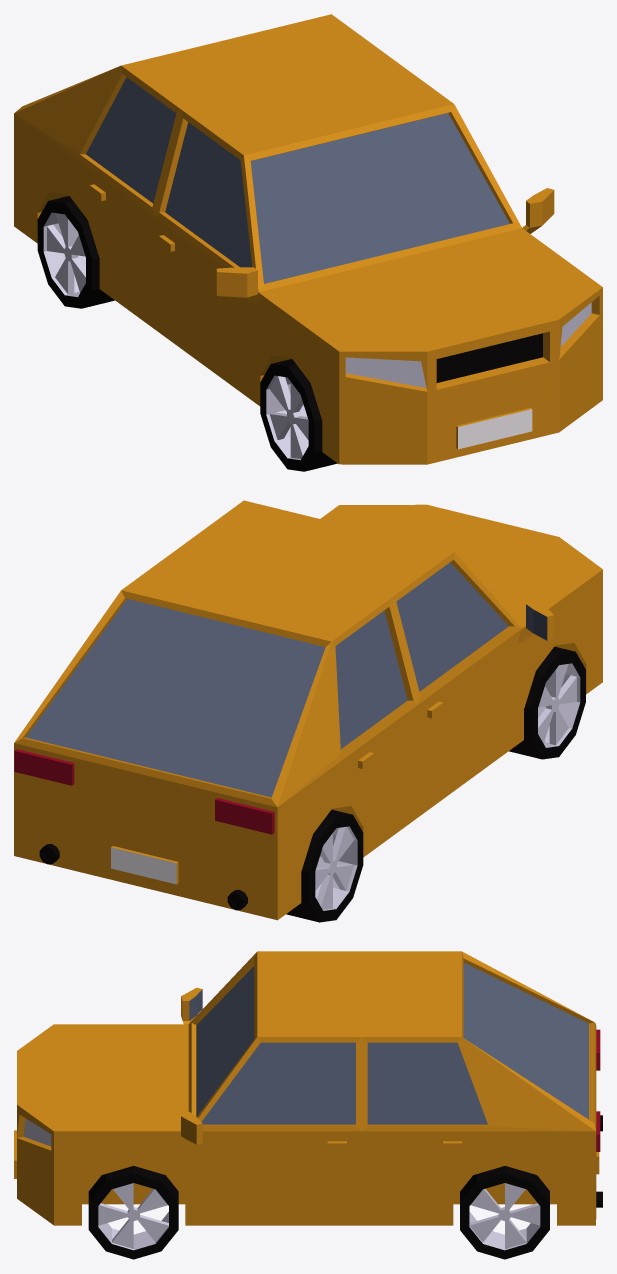
The model's file is yellowcar.glb.
3 views of the same model, one above another, from view 1: azimuth 30°, elevation 25°; view 2: azimuth 150°, elevation 25°; view 3: azimuth 270°, elevation 25° (orthographic). The views are drawn at different scales.
Parts seen in each view (by area): view 1: Hatchback, Hatchback wheel front right, Hatchback wheel rear right; view 2: Hatchback, Hatchback wheel rear right, Hatchback wheel front right; view 3: Hatchback, Hatchback wheel front left, Hatchback wheel rear left.
Part boxes in pixels (x1,y1,x2,y2): Hatchback: (14, 14, 602, 464); Hatchback wheel front right: (260, 359, 337, 471); Hatchback wheel rear right: (37, 196, 114, 308); Hatchback: (14, 500, 602, 920); Hatchback wheel rear right: (286, 809, 363, 922); Hatchback wheel front right: (509, 646, 585, 759); Hatchback: (14, 951, 602, 1225); Hatchback wheel front left: (88, 1166, 178, 1259); Hatchback wheel rear left: (460, 1166, 549, 1259).
Bounding box in the file's own units: 2.81 × 2.01 × 5.11.
